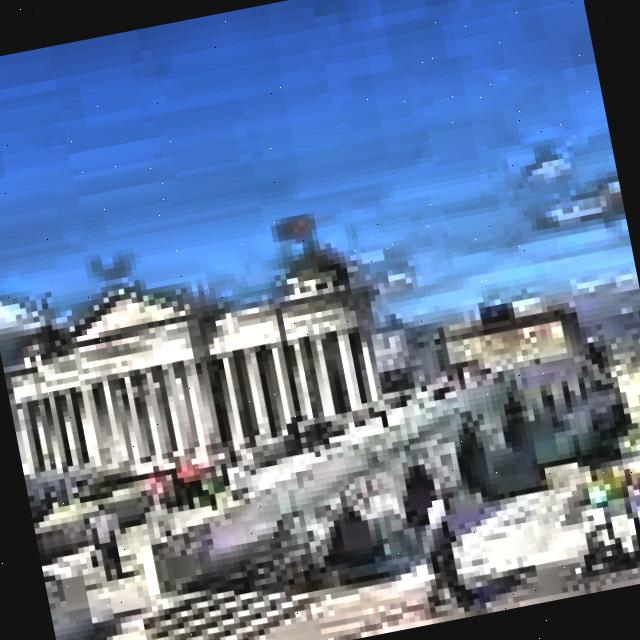stone bridge: (68, 319, 640, 639)
